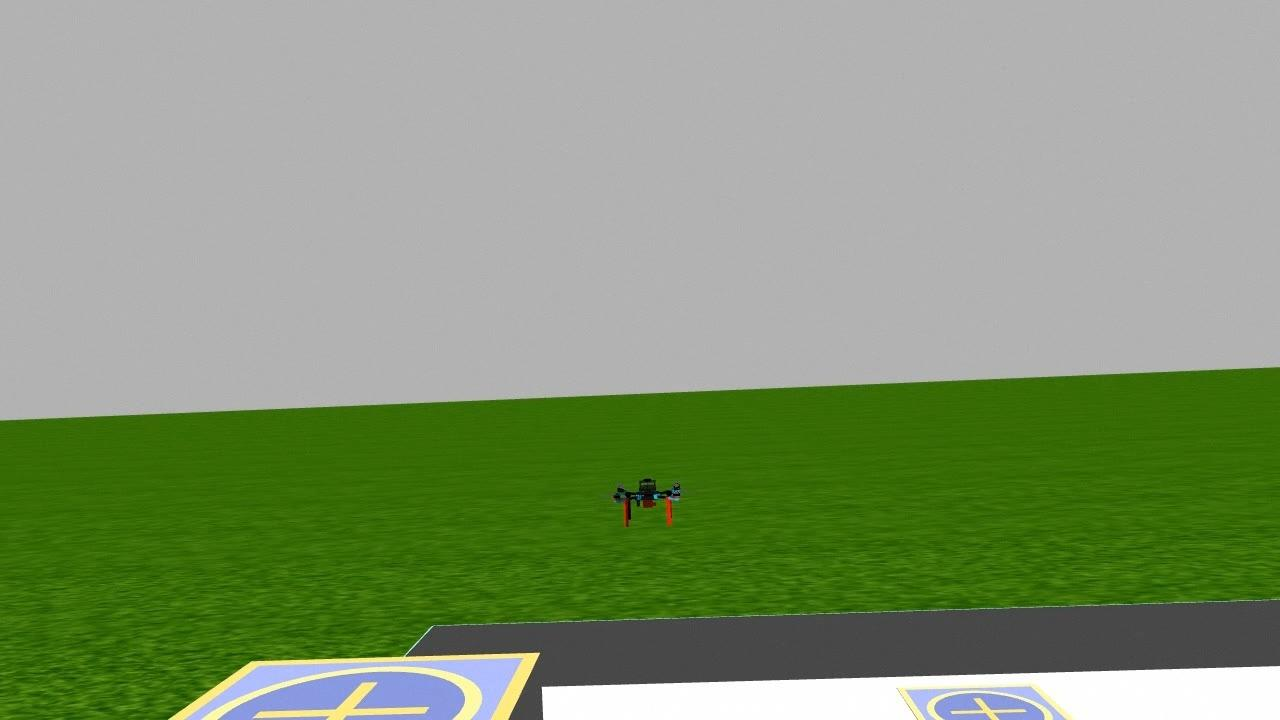UAV: (599, 462, 694, 544)
